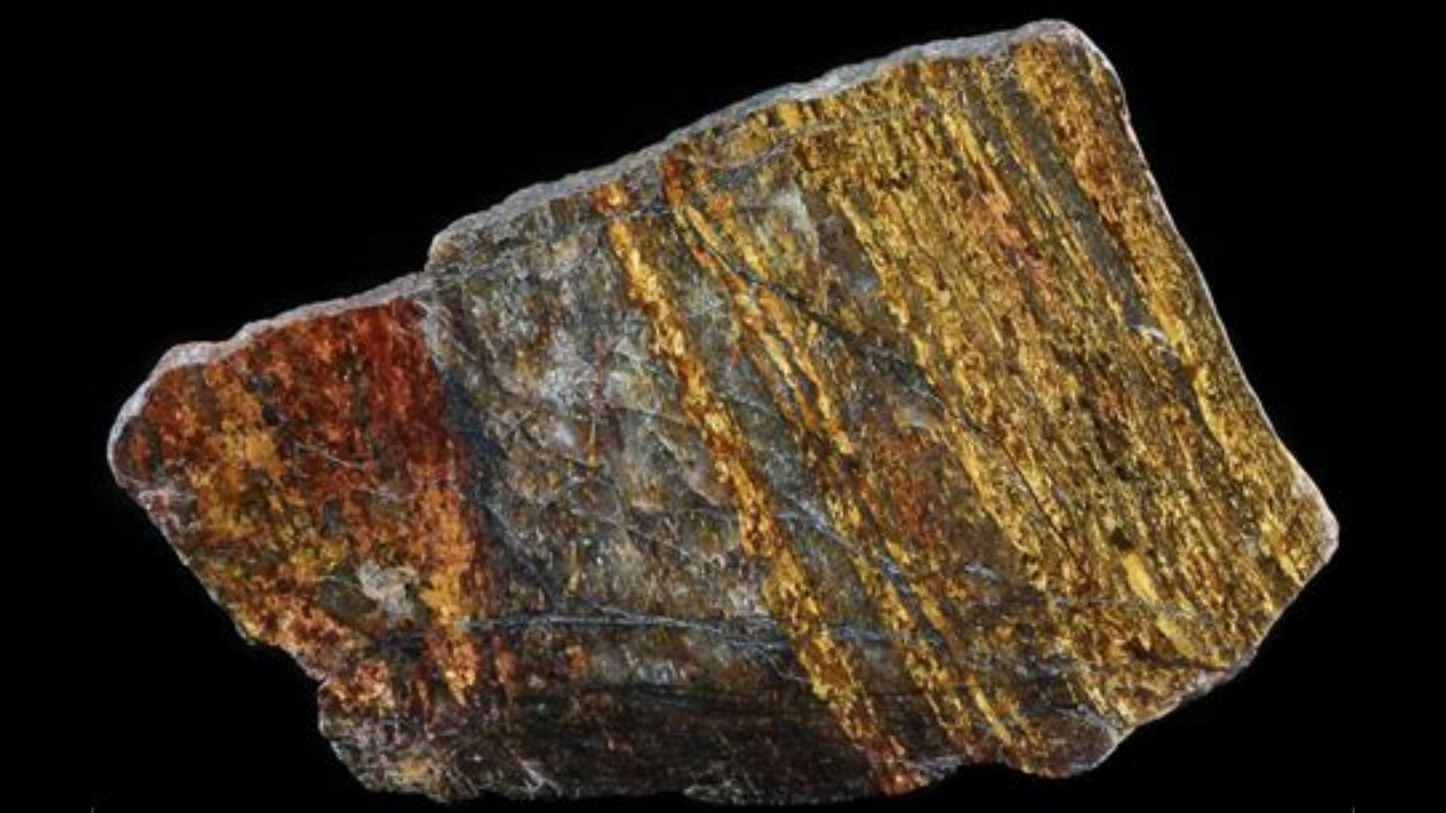rock: (110, 21, 1334, 797)
